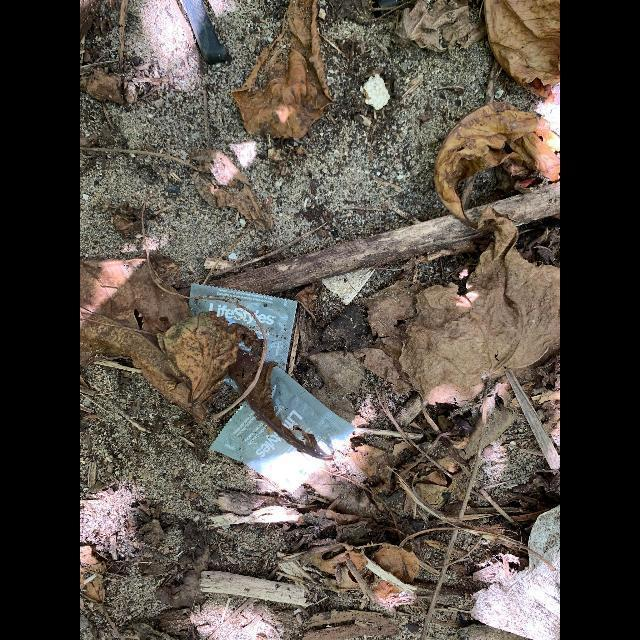Plastic: (210, 366, 354, 494), (189, 284, 297, 394), (322, 266, 378, 304), (360, 73, 390, 109)
